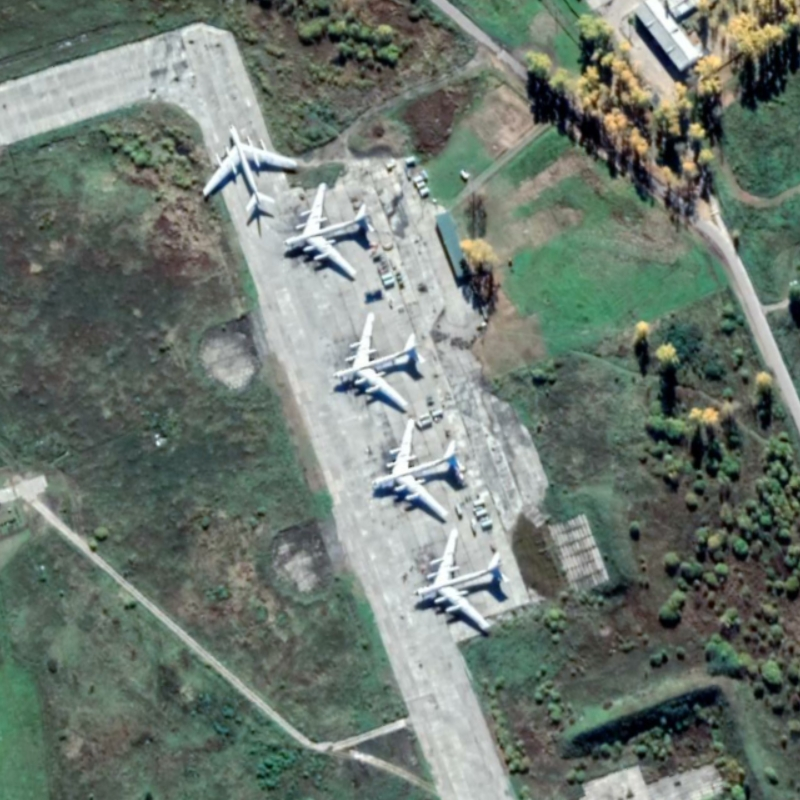A17: (410, 526, 511, 633), (369, 416, 467, 520), (328, 310, 428, 410), (282, 180, 376, 281), (201, 121, 299, 212)
